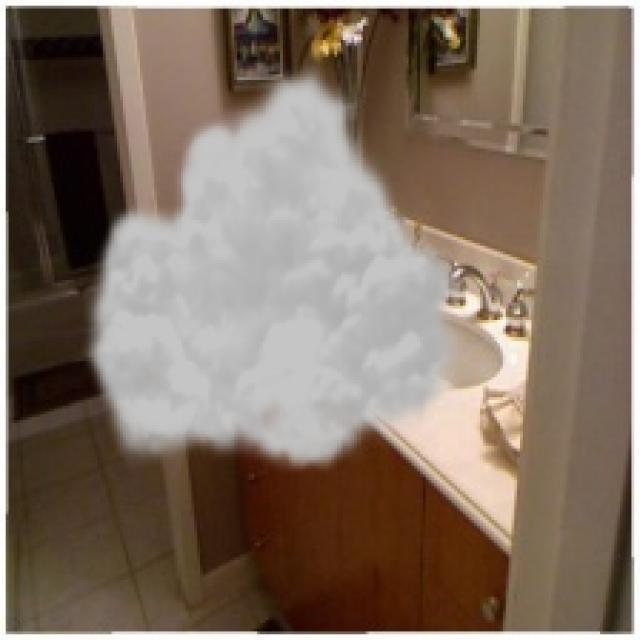Smoke: (80, 59, 472, 474)
